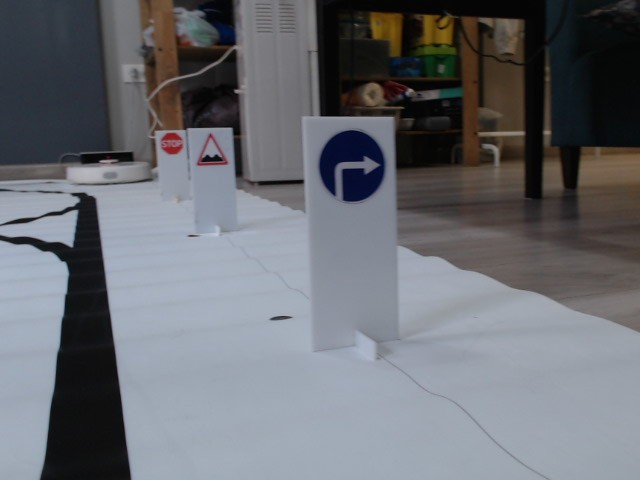Nerov: (195, 133, 227, 166)
Right: (317, 128, 386, 206)
Stop: (159, 132, 183, 155)
